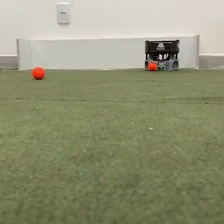ball: (31, 64, 45, 80), (147, 60, 157, 71)
goal: (14, 32, 203, 72)
robot: (143, 37, 182, 72)
